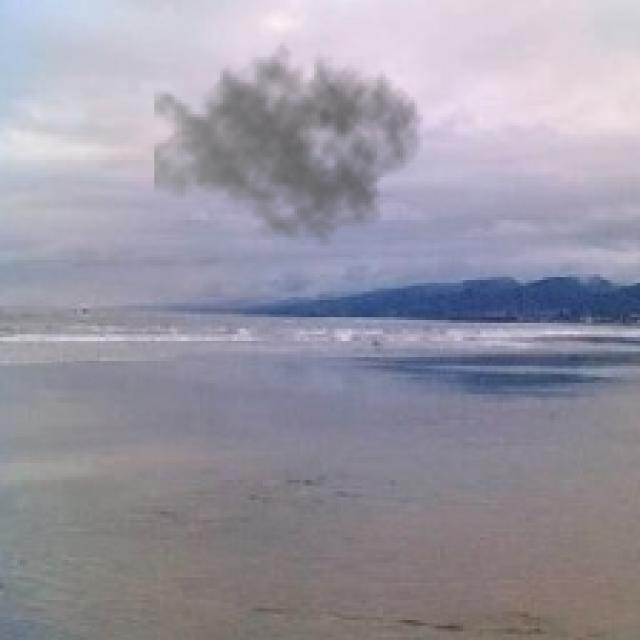Smoke: (154, 32, 423, 248)
